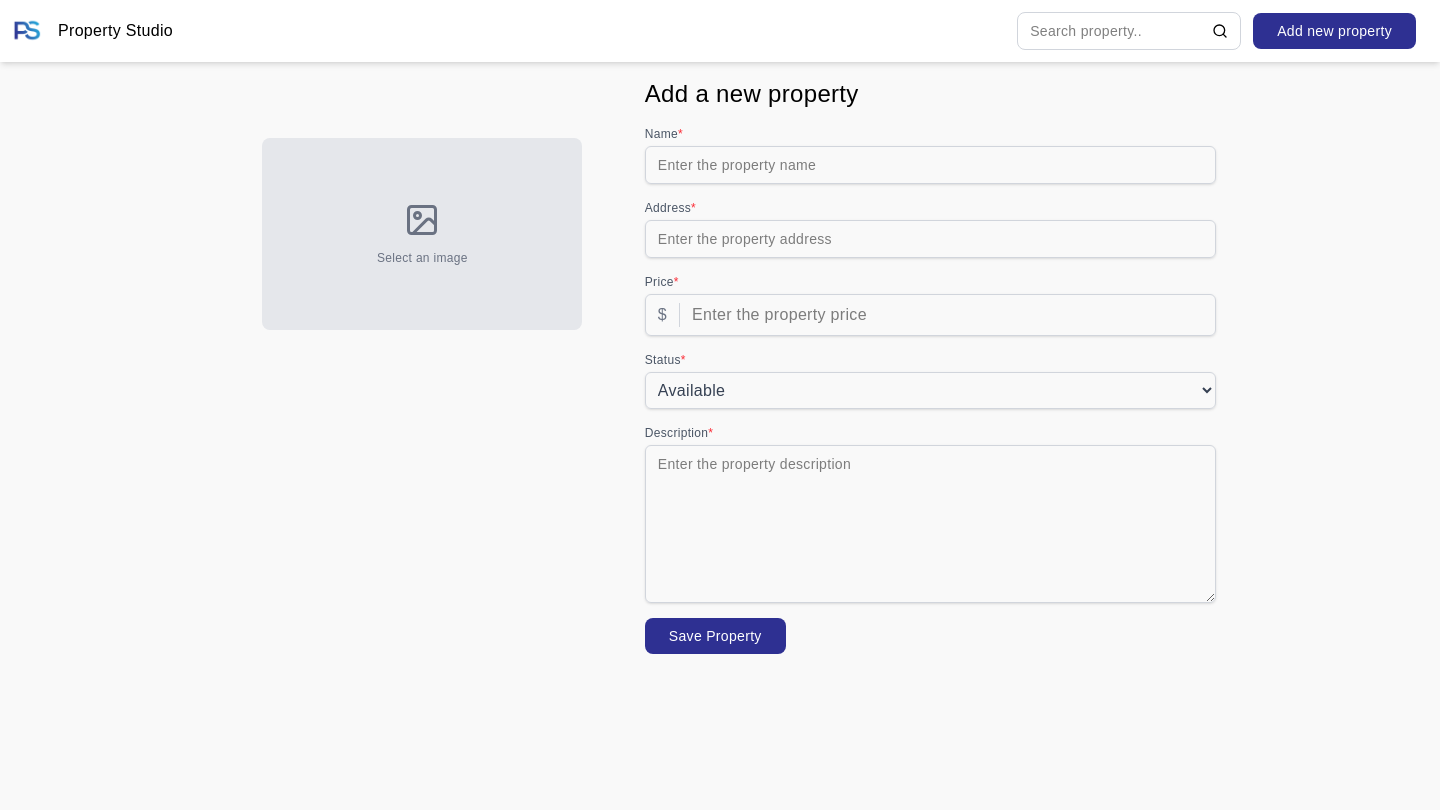
Test case: AddPropertyPage › shows validation errors for empty required fields
Click the button "Save Property" at (715, 636), box [645,618,786,654]
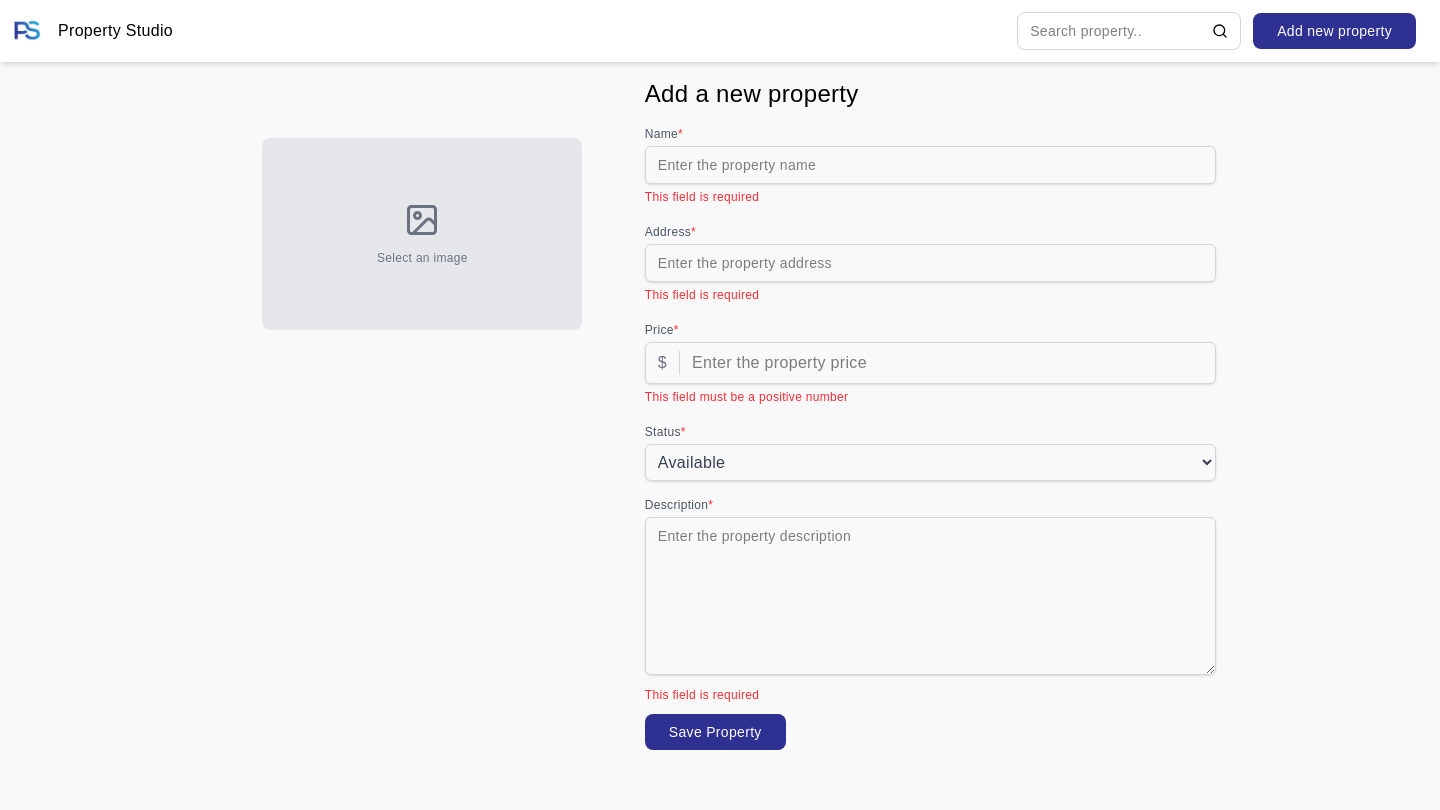
Result: the text "This field is required" below "Name" is shown at [645,190,759,204]
